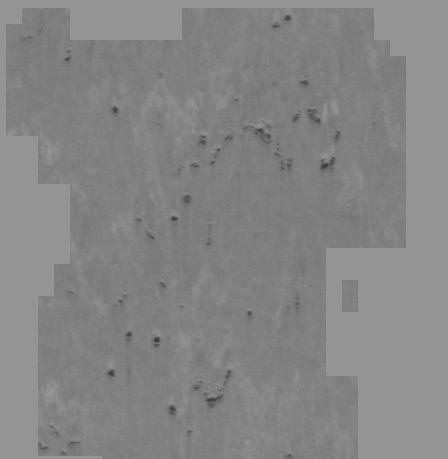oxl: (35, 10, 413, 449)
